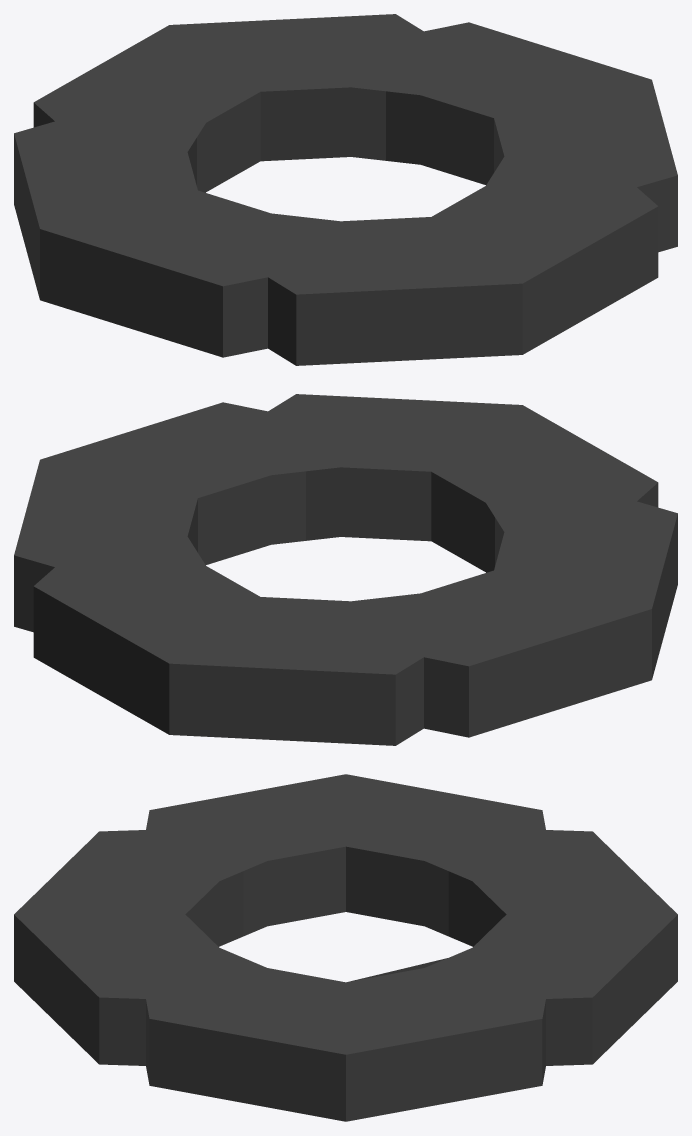
File: Stack3.fbx
3 renders of one model, top to bottom at view 1: azimuth 30°, elevation 25°; view 2: azimuth 150°, elevation 25°; view 3: azimuth 270°, elevation 25°, orthographic. The views are drawn at different scales.
Parts seen in each view (by area): view 1: Plane.005, Plane.007, Plane, Plane.006; view 2: Plane, Plane.007, Plane.005, Plane.006; view 3: Plane.006, Plane.007, Plane.005, Plane.
Part boxes in pixels (x1,y1,x2,y2): Plane.005: [268, 171, 658, 365]; Plane.007: [14, 121, 305, 357]; Plane: [33, 14, 423, 192]; Plane.006: [386, 22, 677, 252]; Plane: [33, 551, 423, 745]; Plane.007: [386, 501, 677, 737]; Plane.005: [268, 394, 658, 572]; Plane.006: [14, 402, 305, 632]; Plane.006: [146, 958, 545, 1121]; Plane.007: [146, 774, 545, 936]; Plane.005: [14, 830, 243, 1065]; Plane: [448, 830, 677, 1065].
Bounding box in the file's own units: 215 × 23.91 × 215.
